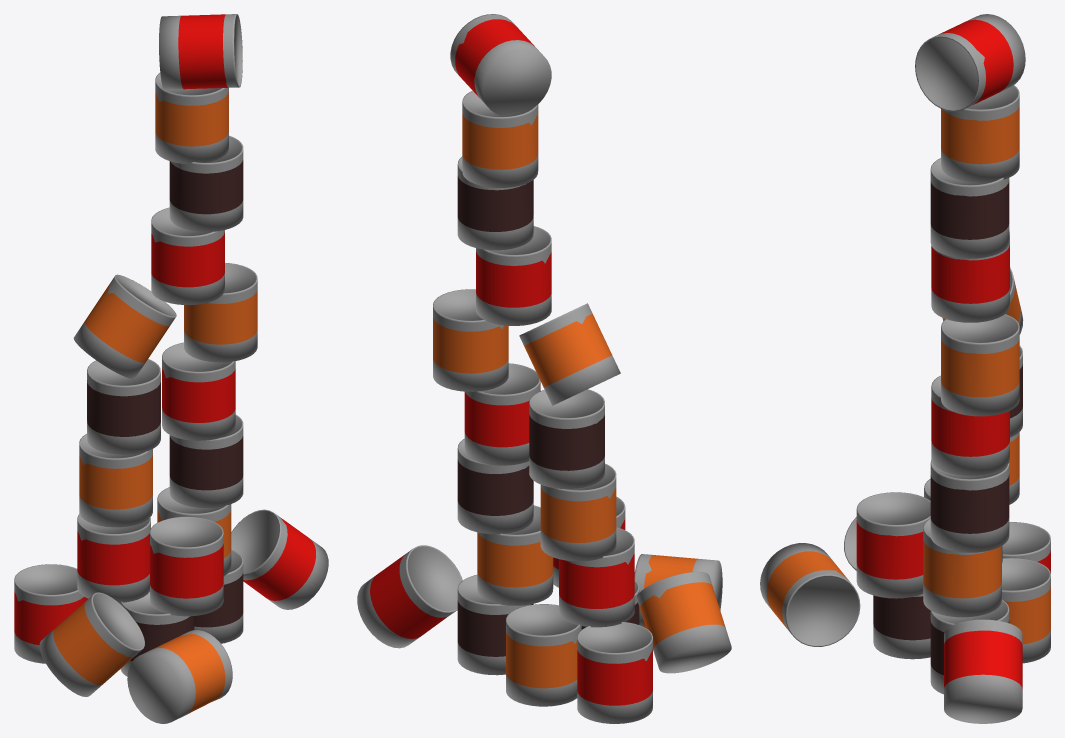
Rendered from tins.fbx.
3 views of the same model, side by side, from view 1: azimuth 30°, elevation 25°; view 2: azimuth 150°, elevation 25°; view 3: azimuth 270°, elevation 25° (orthographic). The views are drawn at different scales.
Parts seen in each view (by area): view 1: Cylinder.006, Cylinder.009, Cylinder.008, Cylinder.007, Cylinder.016, Cylinder.014, Cylinder.019, Cylinder.011, Cylinder.015, Cylinder.013, Cylinder.012, Cylinder.017 (+7 smaller); view 2: Cylinder.007, Cylinder.019, Cylinder, Cylinder.008, Cylinder.014, Cylinder.001, Cylinder.017, Cylinder.015, Cylinder.012, Cylinder.016, Cylinder.013, Cylinder.011 (+6 smaller); view 3: Cylinder.019, Cylinder.007, Cylinder.006, Cylinder.017, Cylinder.009, Cylinder.010, Cylinder.012, Cylinder.018, Cylinder.005, Cylinder.015, Cylinder.011, Cylinder.001 (+7 smaller).
Part boxes in pixels (x1=…): Cylinder.006: x1=127, y1=630, x2=232, y2=723; Cylinder.009: x1=150, y1=516, x2=223, y2=616; Cylinder.008: x1=39, y1=592, x2=144, y2=696; Cylinder.007: x1=231, y1=509, x2=328, y2=609; Cylinder.016: x1=73, y1=274, x2=176, y2=378; Cylinder.014: x1=87, y1=359, x2=160, y2=454; Cylinder.019: x1=159, y1=14, x2=242, y2=89; Cylinder.011: x1=162, y1=342, x2=235, y2=440; Cylinder.015: x1=151, y1=207, x2=224, y2=304; Cylinder.013: x1=79, y1=434, x2=152, y2=527; Cylinder.012: x1=155, y1=73, x2=228, y2=164; Cylinder.017: x1=184, y1=263, x2=257, y2=362; Cylinder.007: x1=357, y1=545, x2=462, y2=648; Cylinder.019: x1=450, y1=14, x2=551, y2=115; Cylinder: x1=577, y1=622, x2=652, y2=723; Cylinder.008: x1=637, y1=571, x2=731, y2=673; Cylinder.014: x1=529, y1=389, x2=604, y2=488; Cylinder.001: x1=506, y1=604, x2=581, y2=706; Cylinder.017: x1=433, y1=289, x2=508, y2=391; Cylinder.015: x1=476, y1=226, x2=551, y2=325; Cylinder.012: x1=462, y1=90, x2=538, y2=187; Cylinder.016: x1=519, y1=303, x2=620, y2=405; Cylinder.013: x1=540, y1=463, x2=616, y2=561; Cylinder.011: x1=464, y1=363, x2=540, y2=465; Cylinder.019: x1=915, y1=14, x2=1025, y2=111; Cylinder.007: x1=944, y1=619, x2=1022, y2=723; Cylinder.006: x1=760, y1=543, x2=860, y2=646; Cylinder.017: x1=941, y1=314, x2=1019, y2=416; Cylinder.009: x1=856, y1=492, x2=930, y2=598; Cylinder.010: x1=930, y1=158, x2=1009, y2=258; Cylinder.012: x1=941, y1=85, x2=1019, y2=182; Cylinder.018: x1=930, y1=460, x2=1009, y2=552; Cylinder.005: x1=923, y1=518, x2=1001, y2=617; Cylinder.015: x1=931, y1=231, x2=1009, y2=322; Cylinder.011: x1=931, y1=375, x2=1009, y2=475; Cylinder.001: x1=1002, y1=558, x2=1050, y2=663.
Bounding box in the file's own units: 3.32 × 6.19 × 2.49.
